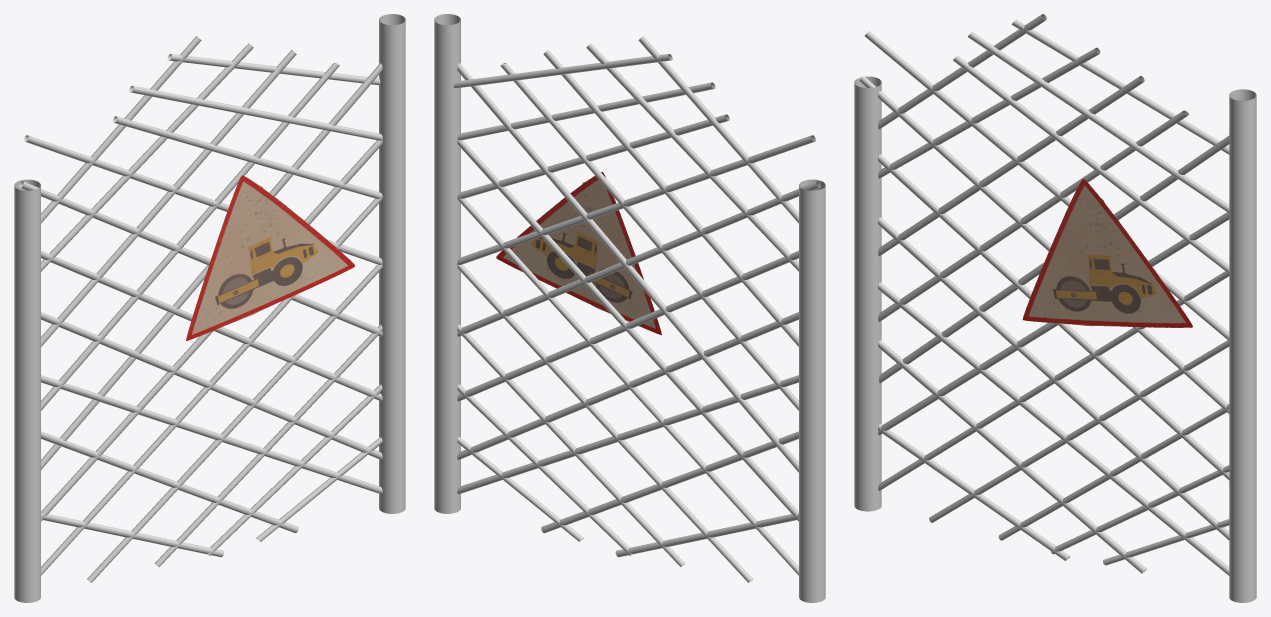
Rendered from fence_fall.fbx.
3 views of the same model, side by side, from view 1: azimuth 30°, elevation 25°; view 2: azimuth 150°, elevation 25°; view 3: azimuth 330°, elevation 25° (orthographic). The views are drawn at different scales.
Visible parts, largest first — view 1: Fall_fence; view 2: Fall_fence; view 3: Fall_fence.
Boxes of the visible parts, <box> form: Fall_fence: <box>14,14,405,602</box>; Fall_fence: <box>434,14,825,602</box>; Fall_fence: <box>854,14,1256,602</box>.
Bounding box in the file's own units: 613 × 795 × 36.58.
